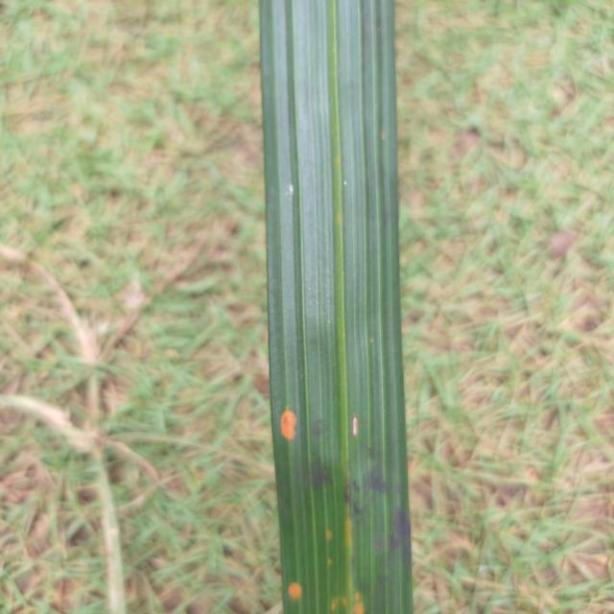Kalium: (259, 1, 406, 614)
